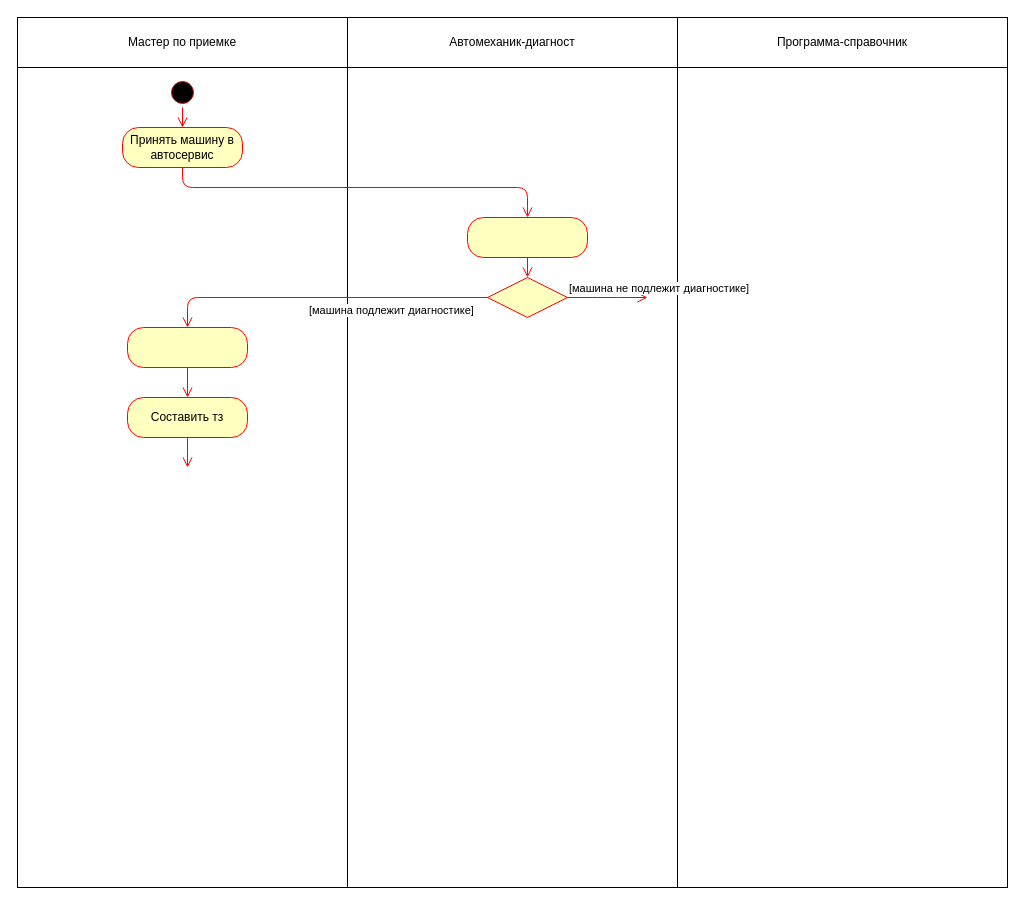
The diagram is 1025 pixels wide and 905 high, and some of its shapes have lost their labels. Each missing label, with the centre of its shape:
Осмотр авто: the point at 527,237
Оформить документы: the point at 187,347
